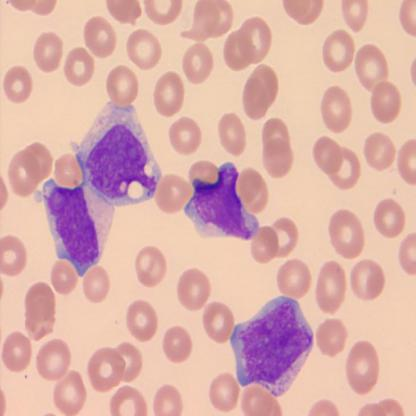Blast: (76, 98, 164, 210), (228, 293, 315, 396), (42, 172, 118, 279), (183, 159, 260, 243)
